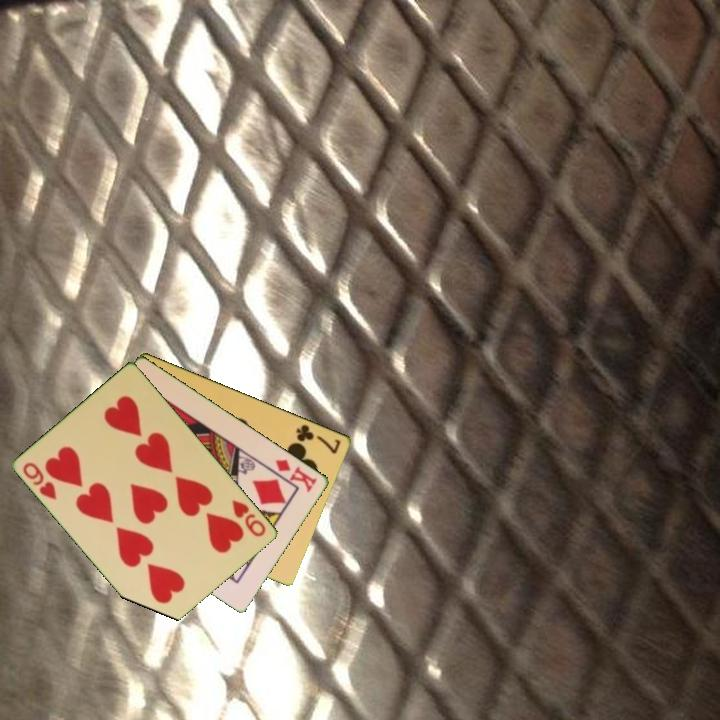7c: (293, 421, 344, 457)
9h: (19, 458, 60, 503), (229, 496, 269, 540)
Kd: (272, 455, 320, 495)
